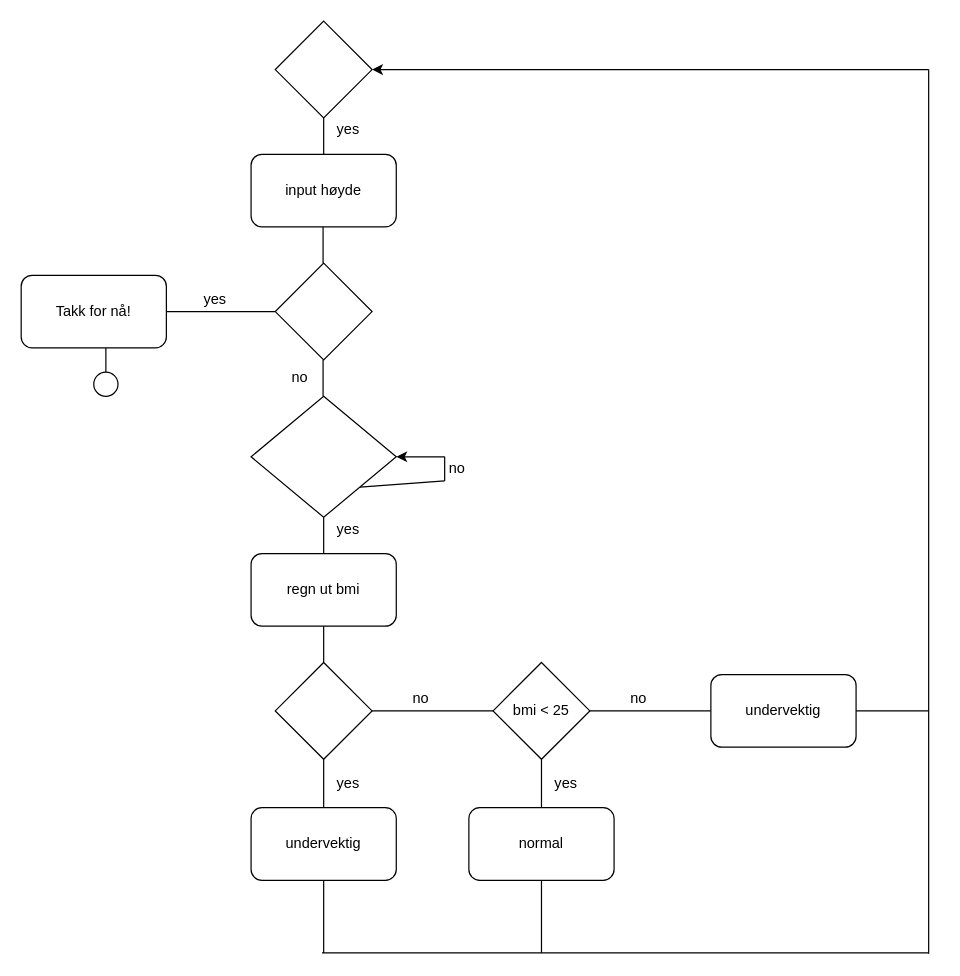
Some shapes in this 960 by 976 pixel diagram are drawn without their labels. Each missing label, with the centre of its shape:
bmi < 18.5: point (323, 710)
input == "": point (323, 311)
true: point (323, 69)
try konvertering float: point (323, 456)
